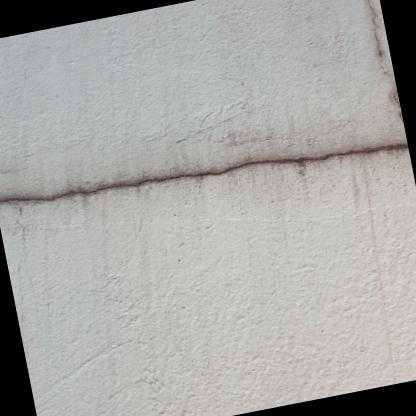crack: (0, 142, 407, 202), (364, 0, 400, 108)
